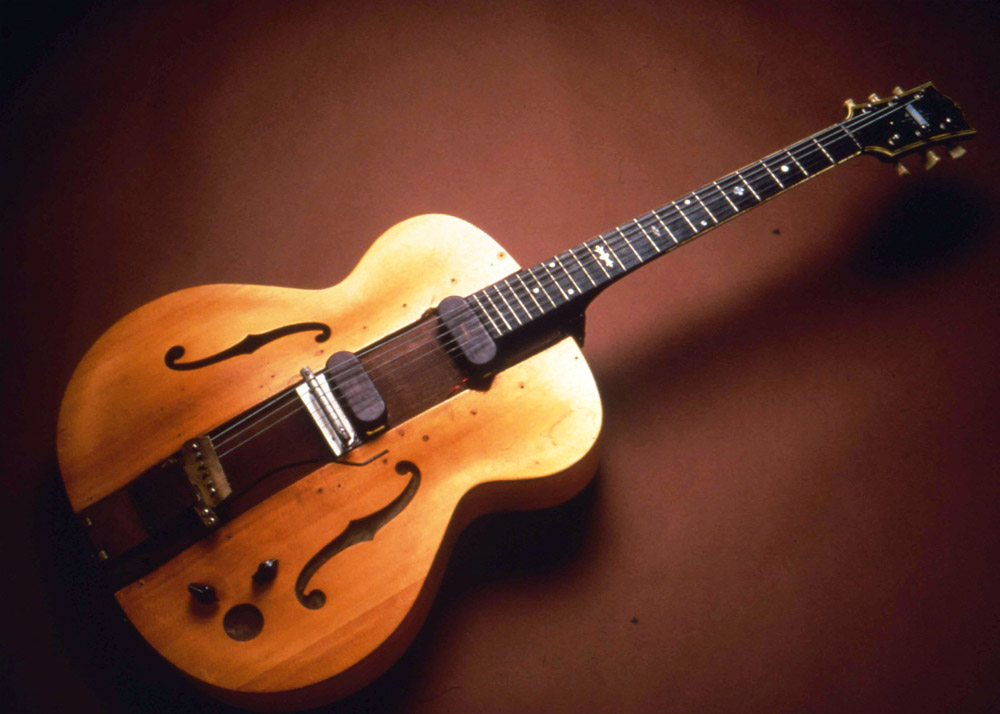guitar: (31, 58, 998, 698)
